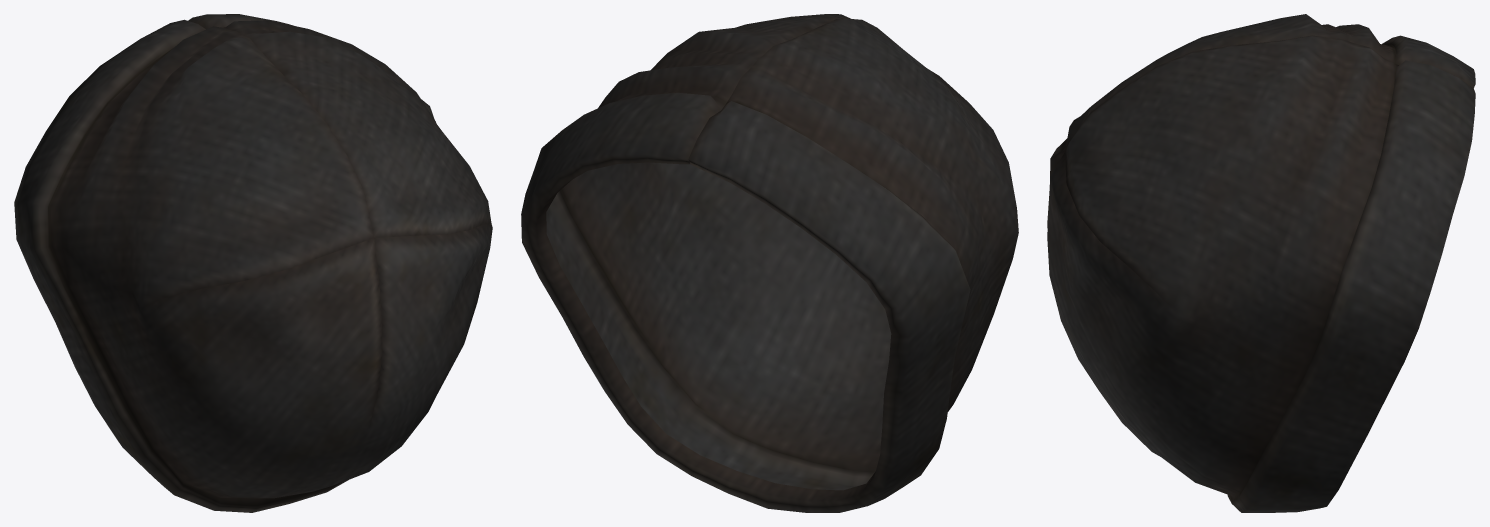
File: winter_hat.glb
The picture shows the model from 3 angles, left to right: view 1: azimuth 30°, elevation 25°; view 2: azimuth 150°, elevation 25°; view 3: azimuth 270°, elevation 25°; orthographic projection. The views are drawn at different scales.
Visible parts, largest first — view 1: Object_3; view 2: Object_3; view 3: Object_3.
Boxes of the visible parts, x1,y1,x2,y2 form: Object_3: (14, 14, 492, 512); Object_3: (521, 14, 1018, 512); Object_3: (1047, 14, 1475, 512).
Size of the model in its own units: 0.3882 by 0.4 by 0.3416.
Materials: 1 (1 with a texture image).
